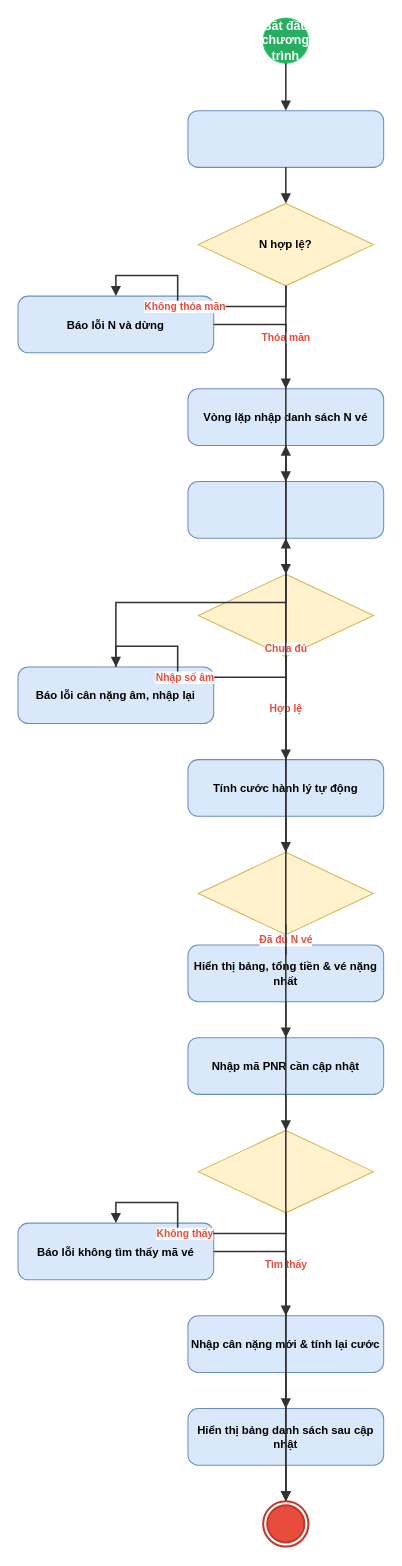
Image size: 402x1566. Some labels were removed from this diagram. The box of each missing label's shape, as (x1, y1, x2, y2) in pixels:
Cân nặng >= 0?: (197, 573, 373, 657)
Kết thúc chương trình: (262, 1500, 309, 1547)
Nhập mã vé, tên, hạng vé, cân nặng: (187, 480, 384, 538)
Nhập số lượng vé N (1 <= N <= 100): (187, 110, 384, 167)
Tìm kiếm tuyến tính strcmp(): (197, 1129, 373, 1213)
Đã nhập đủ N vé?: (197, 851, 373, 935)
